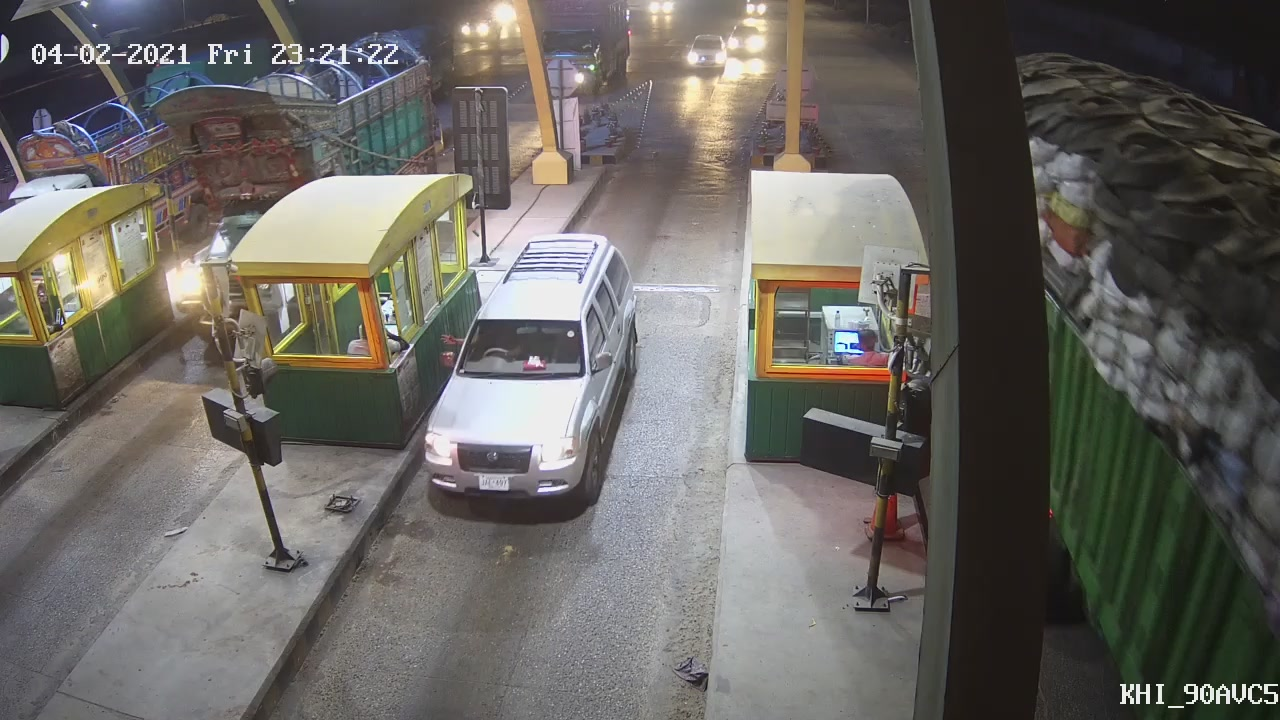F1: (419, 227, 639, 512)
